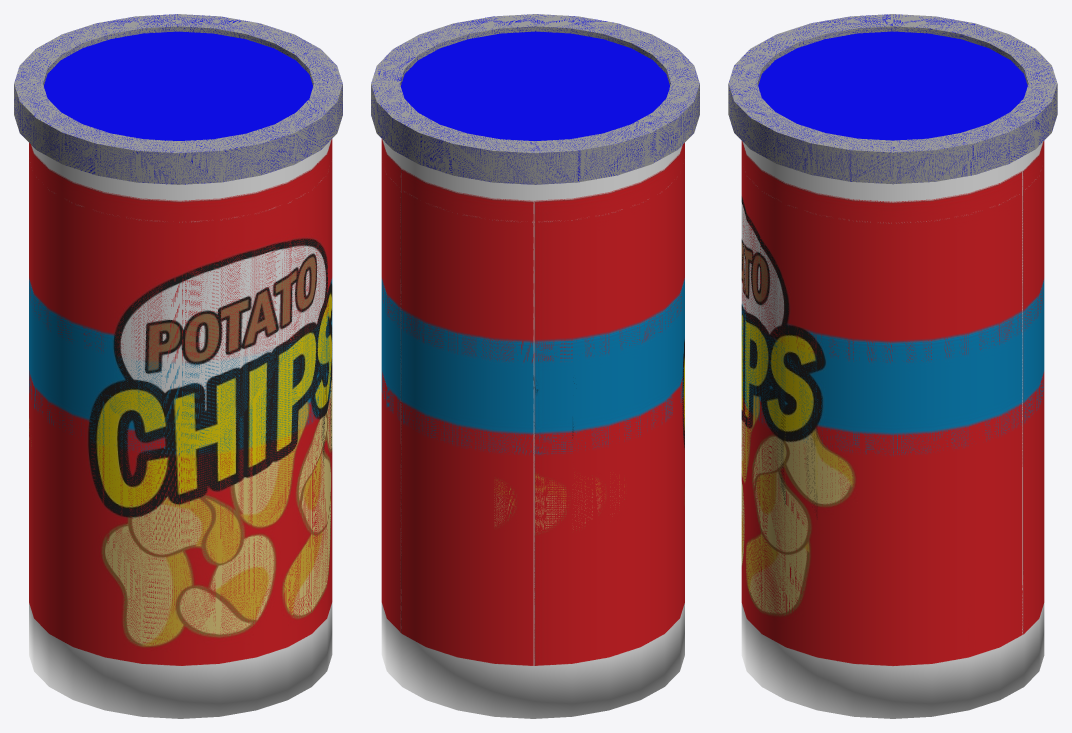
File: chips.dae
3 renders of one model, left to right at view 1: azimuth 30°, elevation 25°; view 2: azimuth 150°, elevation 25°; view 3: azimuth 270°, elevation 25°, orthographic.
Parts seen in each view (by area): view 1: Label, Lid (×2), group_3, group_2; view 2: Label, Lid (×2), group_3, group_2; view 3: Label, Lid (×2), group_3, group_2.
Boxes of the visible parts, <box> form: Label: <box>29,139,332,665</box>; Lid (×2): <box>14,14,342,184</box>; group_3: <box>29,603,332,718</box>; group_2: <box>32,140,330,200</box>; Label: <box>381,139,684,665</box>; Lid (×2): <box>371,14,699,184</box>; group_3: <box>381,603,684,718</box>; group_2: <box>383,140,681,200</box>; Label: <box>741,141,1044,666</box>; Lid (×2): <box>728,14,1057,184</box>; group_3: <box>741,603,1044,718</box>; group_2: <box>743,142,1042,201</box>.
Bounding box in the file's own units: 3.52 × 3.53 × 6.76.
Materials: 5 (2 with a texture image).
